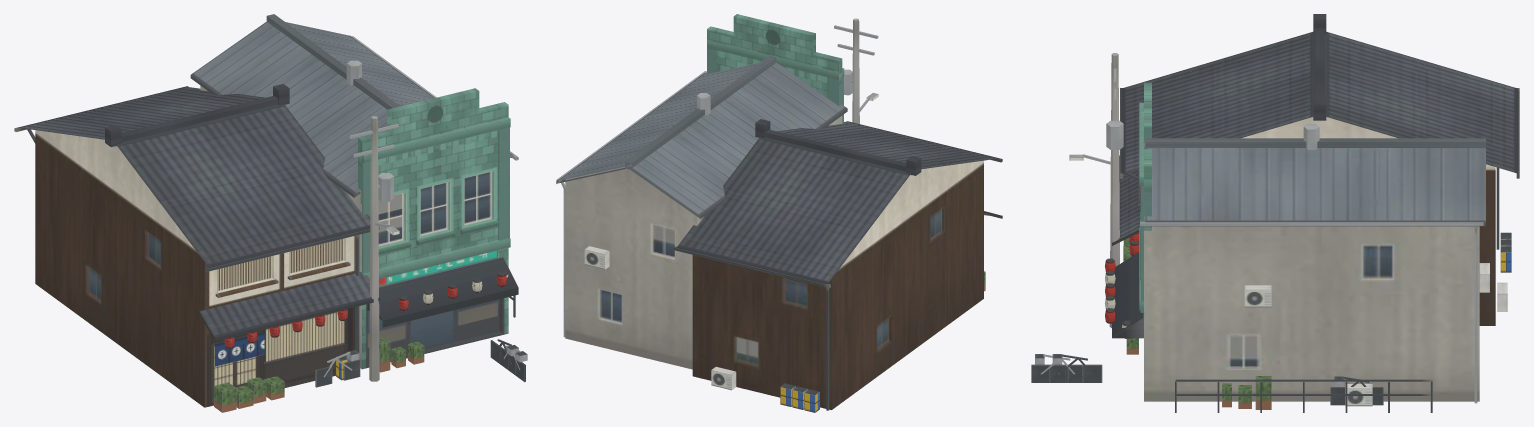
The model's file is tokyo_house_b.glb.
The picture shows the model from 3 angles, left to right: view 1: azimuth 30°, elevation 25°; view 2: azimuth 150°, elevation 25°; view 3: azimuth 270°, elevation 25°; orthographic projection. The views are drawn at different scales.
Visible parts, largest first — view 1: tokyo_house_b; view 2: tokyo_house_b; view 3: tokyo_house_b.
Boxes of the visible parts, bbox=[...] form: tokyo_house_b: bbox=[14, 14, 527, 412]; tokyo_house_b: bbox=[556, 14, 1002, 412]; tokyo_house_b: bbox=[1031, 14, 1519, 412].
Bounding box in the file's own units: 12.68 × 9.4 × 15.27.
Materials: 1 (1 with a texture image).
